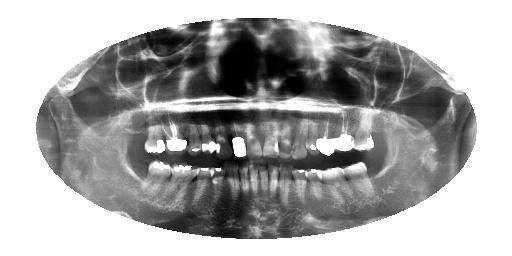Fillings: (137, 113, 167, 156), (163, 107, 189, 154), (312, 115, 339, 160), (330, 107, 355, 152), (228, 113, 249, 161)
